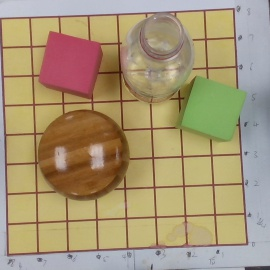bottle: (119, 14, 196, 110)
chess: (39, 110, 131, 203)
